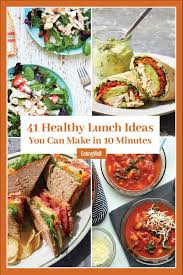can: (95, 27, 134, 78), (92, 225, 117, 266)
